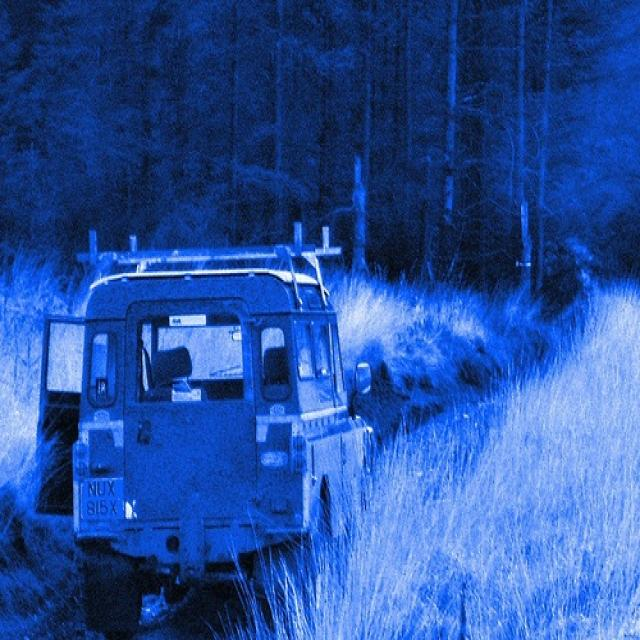car: (34, 224, 377, 633)
